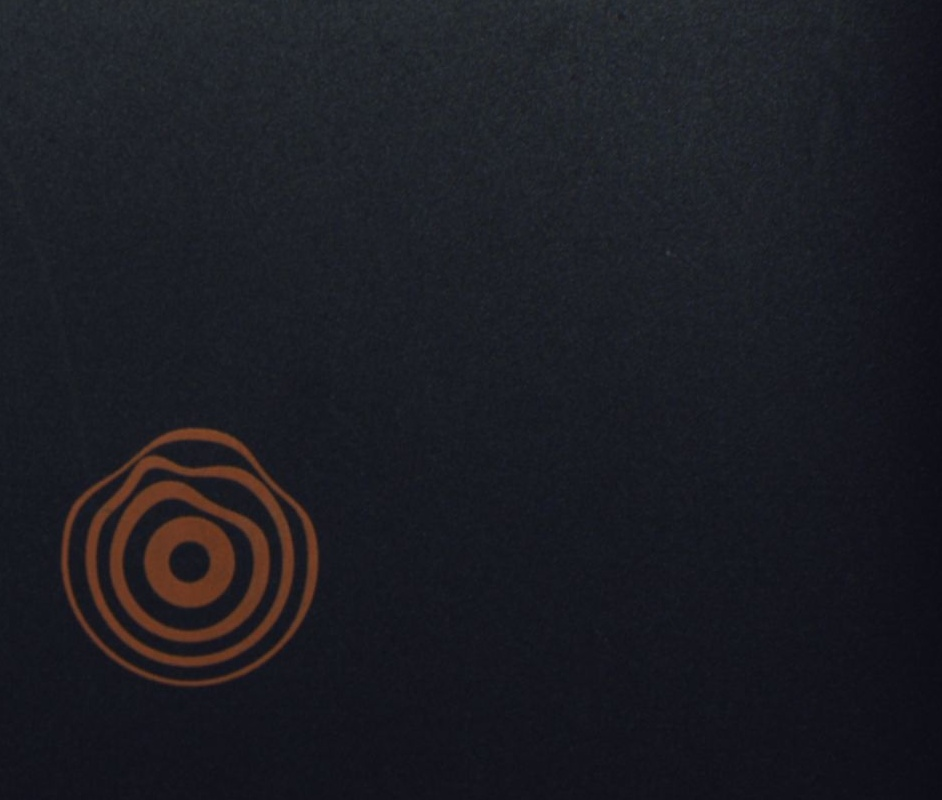BU_HG680GY: (39, 425, 328, 697)
